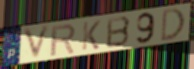9: (135, 11, 157, 45)
B: (105, 15, 132, 50)
D: (159, 6, 186, 43)
K: (81, 19, 103, 52)
R: (50, 23, 78, 58)
V: (21, 23, 52, 62)
